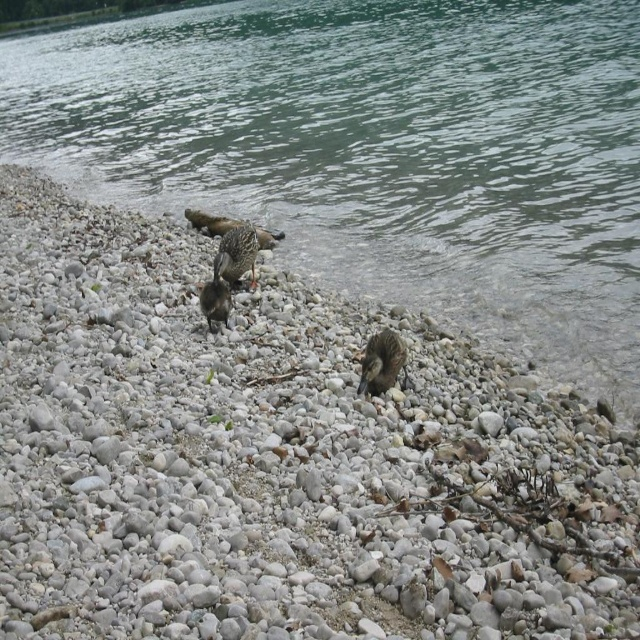Duck: (348, 320, 406, 400), (209, 217, 257, 297), (196, 283, 235, 327)
